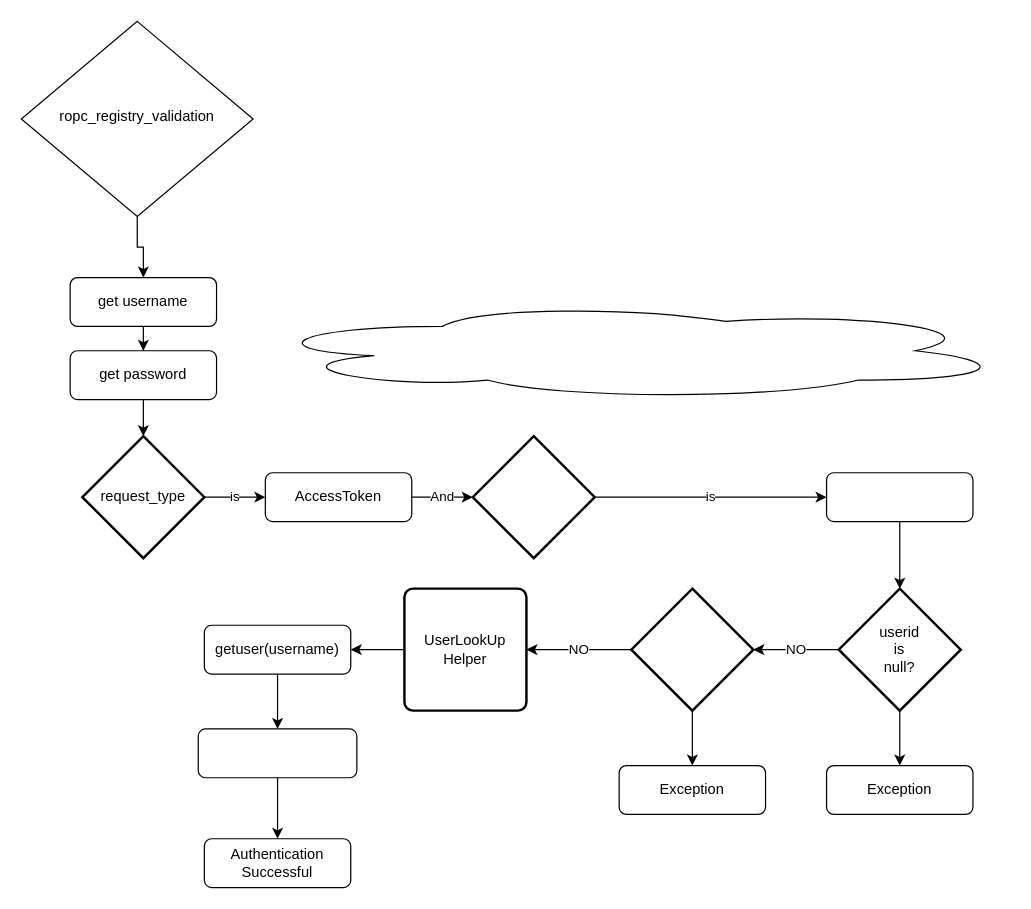
The diagram is 1031 pixels wide and 909 high, and some of its shapes have lost their labels. Here are the shapes that lost their labels. From the top down, the centre of each, then its label:
At point 631,350: "stsuu.getContextAttributes().getAttributeValuesByNameAndType(name, type)".
At point 533,496: "grant_type".
At point 899,497: "Password".
At point 692,649: "password is null?".
At point 277,753: "authenticate(password)".
